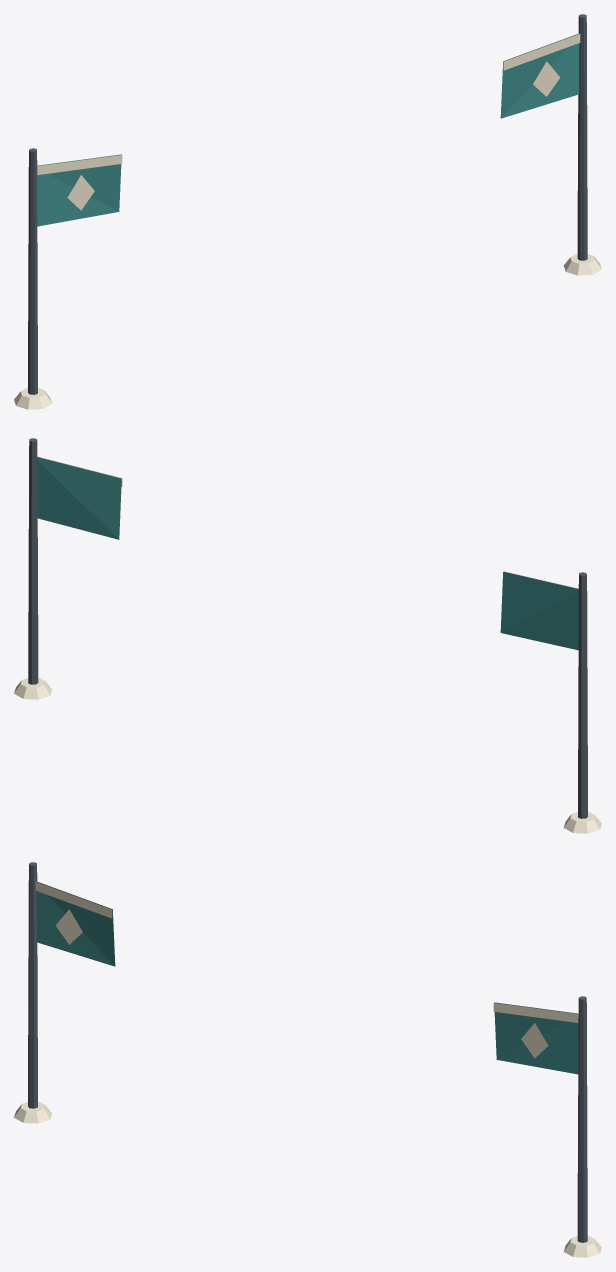
The model's file is gate-teal.glb.
The picture shows the model from 3 angles, top to bottom: view 1: azimuth 30°, elevation 25°; view 2: azimuth 150°, elevation 25°; view 3: azimuth 330°, elevation 25°; orthographic projection.
Visible parts, largest first — view 1: gate-teal; view 2: gate-teal; view 3: gate-teal.
Part boxes in pixels (x1,y1,x2,y2): gate-teal: [14, 14, 601, 409]; gate-teal: [14, 438, 601, 833]; gate-teal: [14, 862, 601, 1257].
Size of the model in its own units: 6.8 by 2.8 by 0.4.
